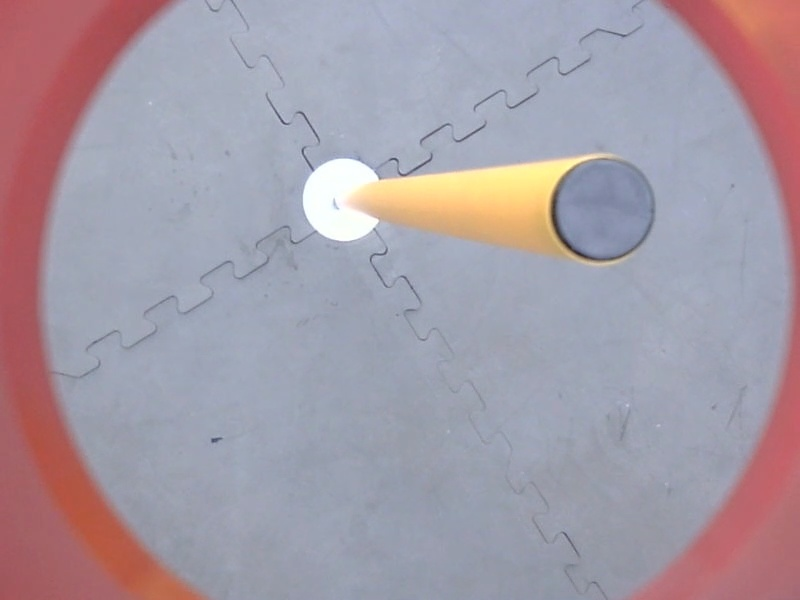tip: (545, 149, 664, 268)
